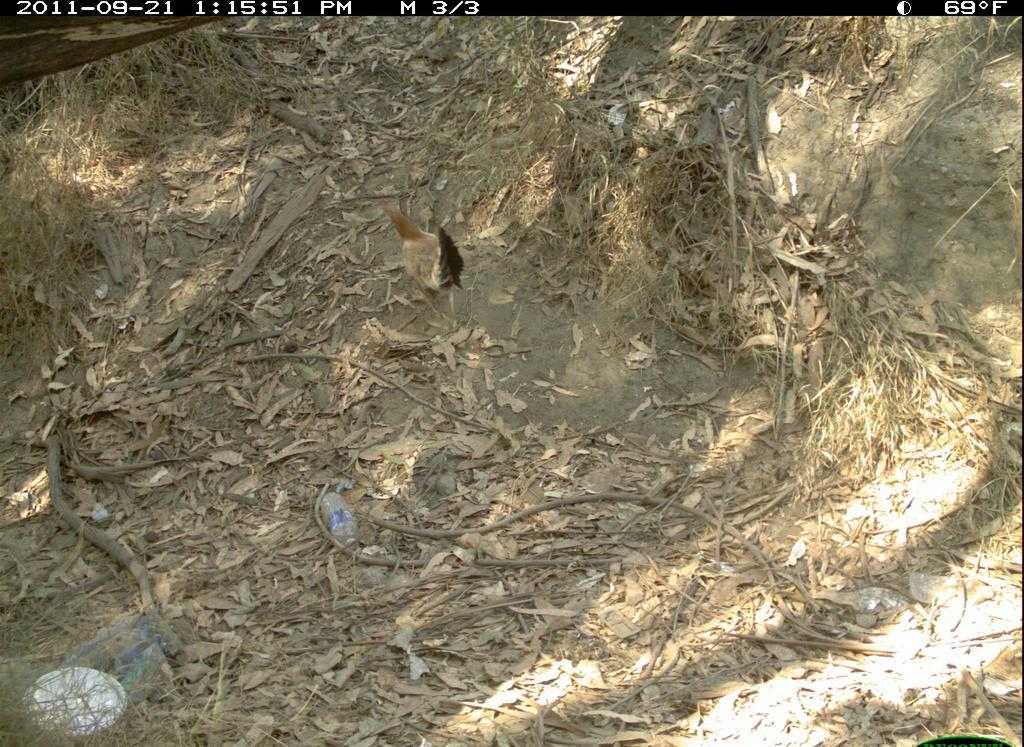bird: (371, 185, 475, 323)
